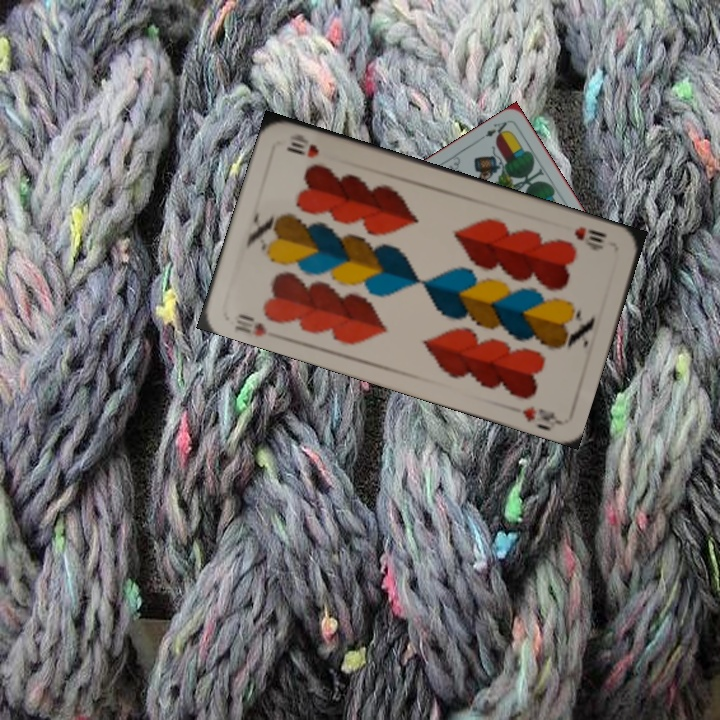EA: (474, 118, 511, 143)
H10: (570, 222, 610, 252), (230, 309, 269, 339)
